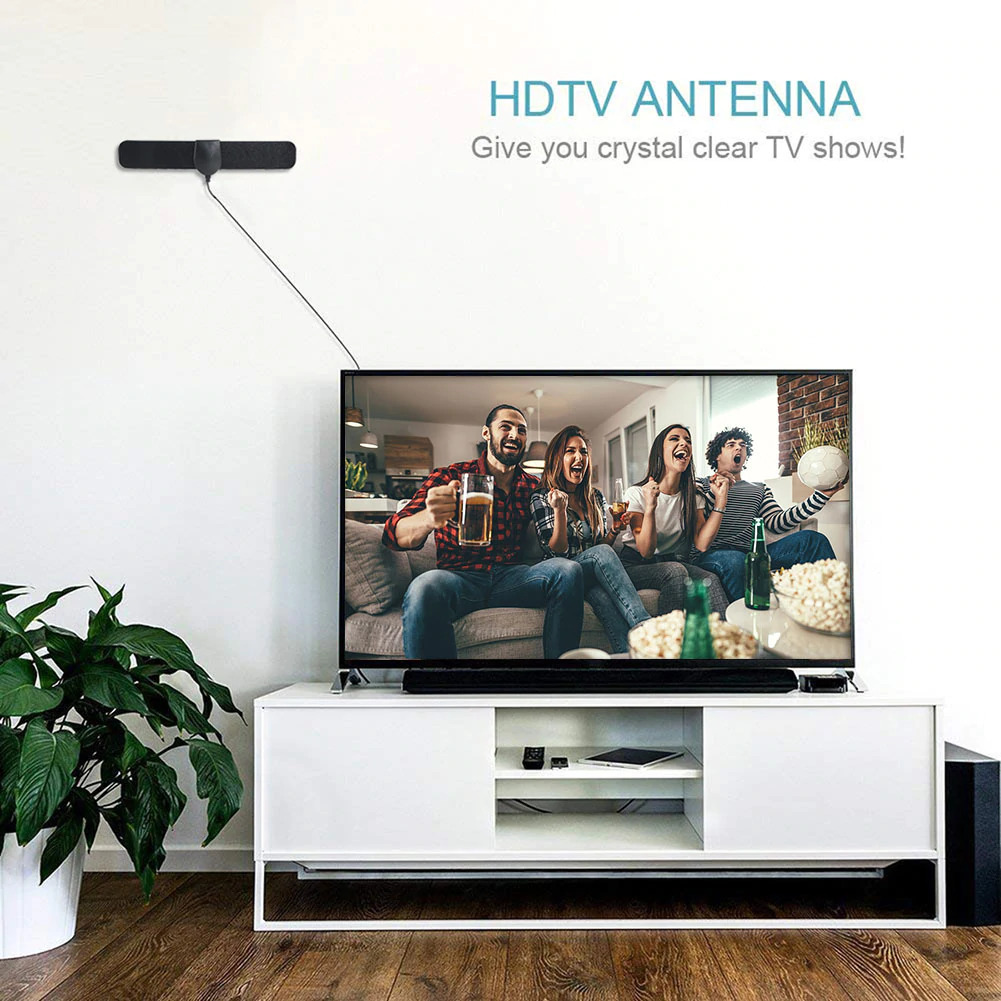tanaman: (1, 572, 223, 954)
tv: (292, 346, 893, 712)
